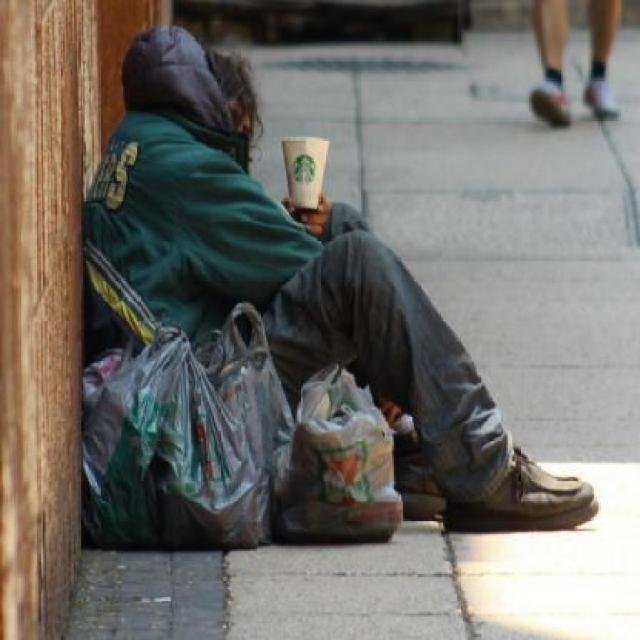plastic bag: (79, 312, 258, 546), (282, 357, 406, 537), (206, 297, 292, 521)
